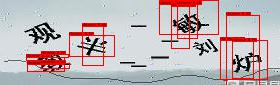chinese: (25, 17, 65, 44), (77, 31, 112, 60), (35, 49, 72, 76), (171, 12, 207, 35), (233, 51, 267, 75), (193, 38, 222, 60)
